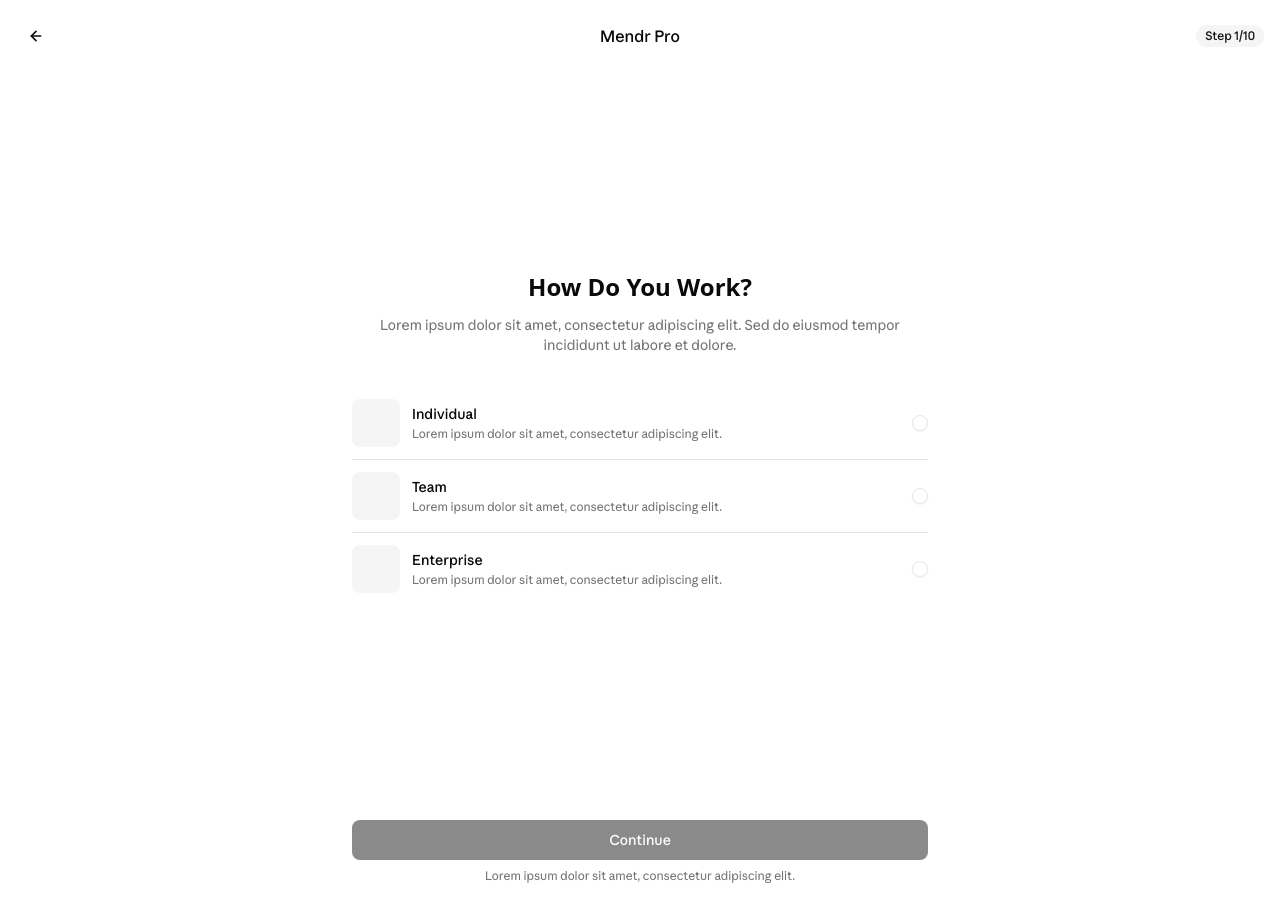
Test: ProOnboardPage — multi-step contractor application › gates the Continue button until a contractor type is selected
Expected: the heading "How Do You Work?" is shown, [528,271,752,303]
Expected: the button "Continue" is disabled, [352,820,928,860]
Click the radio button named "individual" in the row of "Individual" at (920, 423), box [912,415,928,431]
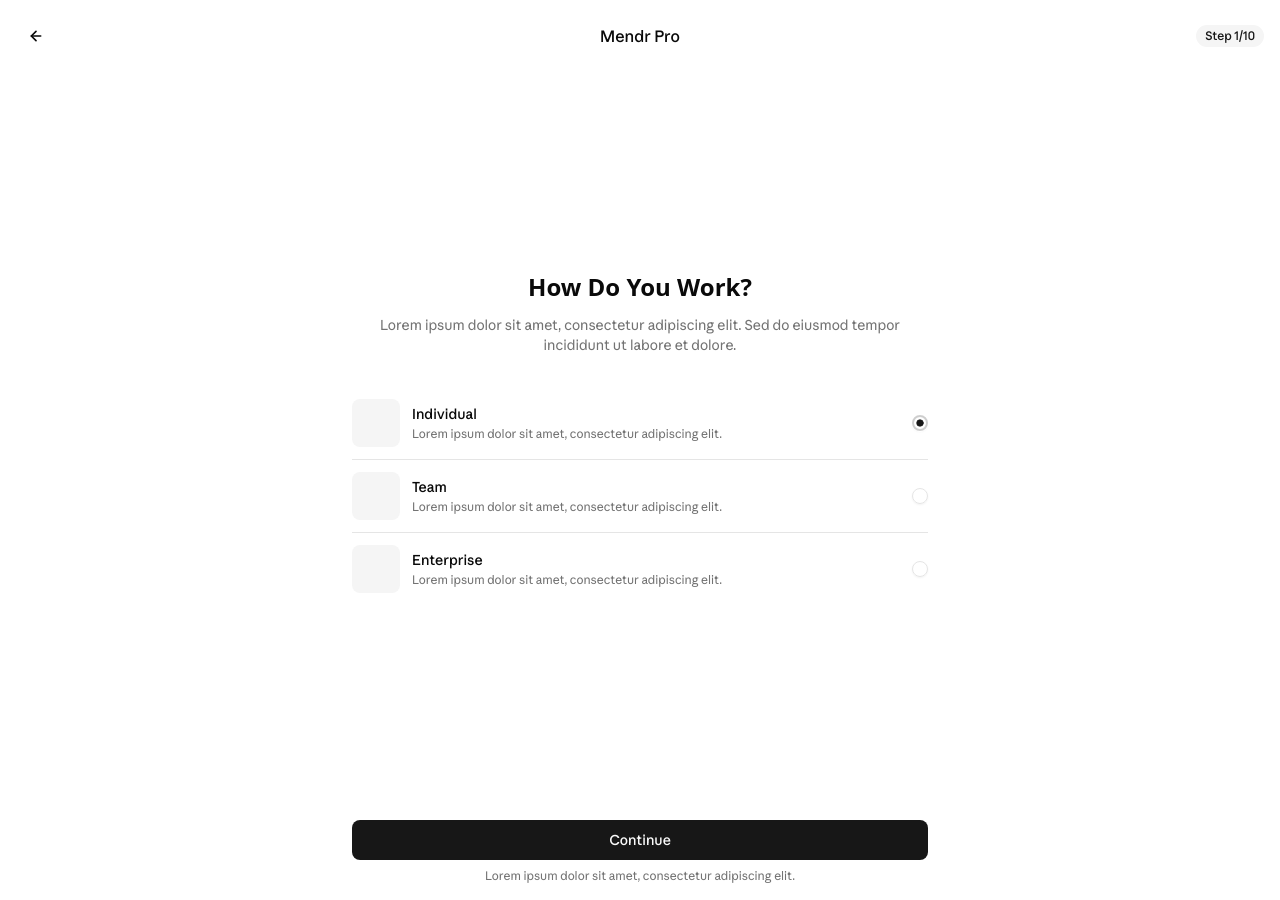
Result: the button "Continue" is enabled at [352,820,928,860]
